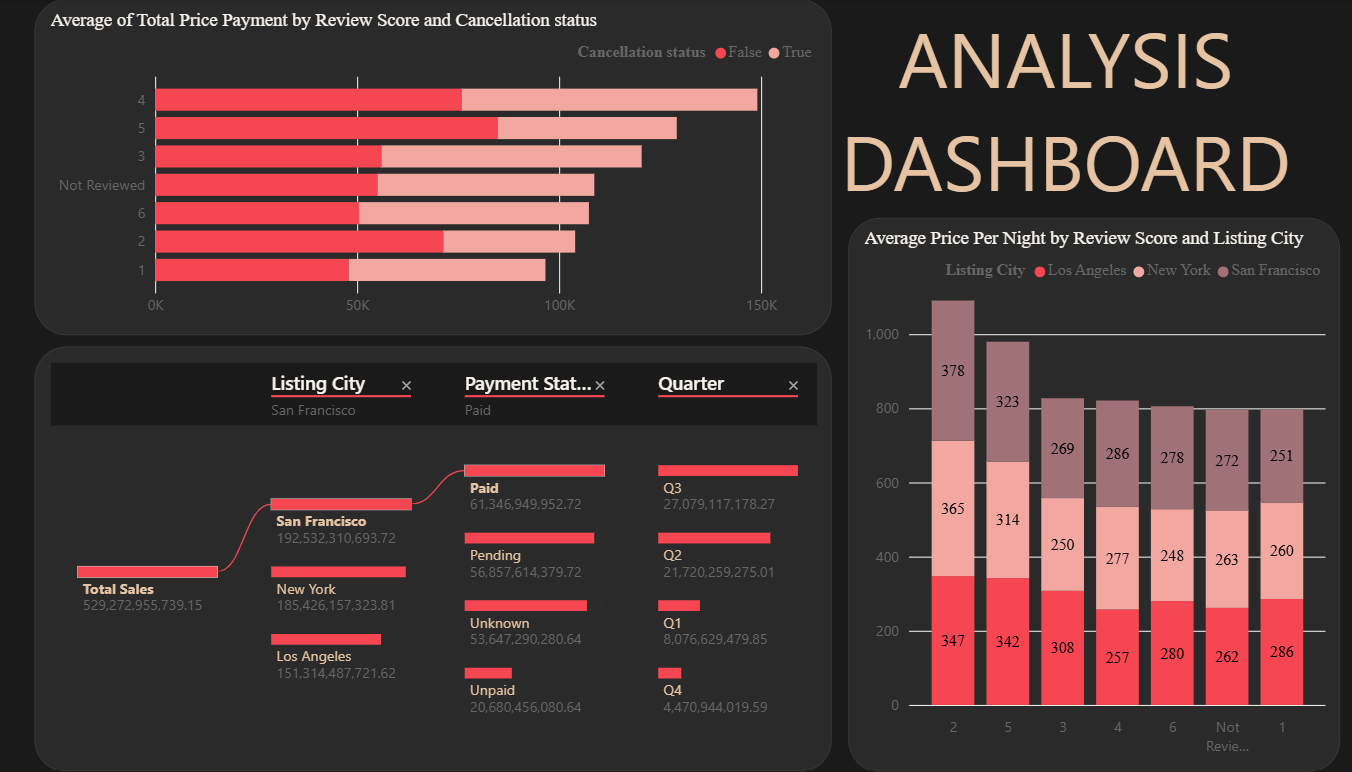

What the dashboard file says about the page in this screenshot:
{"tool":"powerbi","page":{"name":"Analysis","canvas":[1280,720],"ordinal":2},"visuals":[{"type":"decompositionTreeVisual","fields":{"Analyze":["Measure.Total Sales"],"ExplainBy":["DimListings.Listing City","FactBookings.Payment Status","DimDate.Quarter"]},"box":[53.8,323.8,741.2,396.2],"z":1},{"type":"columnChart","fields":{"Category":["FactBookings.Review Score"],"Series":["DimListings.Listing City"],"Y":["Measure.Average Price Per Night"]},"box":[810,203.8,457.5,516.2],"z":2},{"type":"barChart","fields":{"Category":["FactBookings.Review Score"],"Series":["FactBookings.Cancellation status"],"Y":["Avg(FactBookings.Total Price Payment)"]},"box":[53.8,0,741.2,312.5],"z":3},{"type":"textbox","box":[745,0,535,243.8],"z":4}]}

Visuals, with their boxes in screenshot pixels (x1, y1, x2, y2), scaled from the page's 1280x720 canvas onto the 1352x772 screenshot:
decompositionTreeVisual - Measure.Total Sales x DimListings.Listing City: 57, 347, 840, 771
columnChart - FactBookings.Review Score x DimListings.Listing City: 856, 219, 1339, 771
barChart - FactBookings.Review Score x FactBookings.Cancellation status: 57, 0, 840, 335
textbox: 787, 0, 1351, 261
